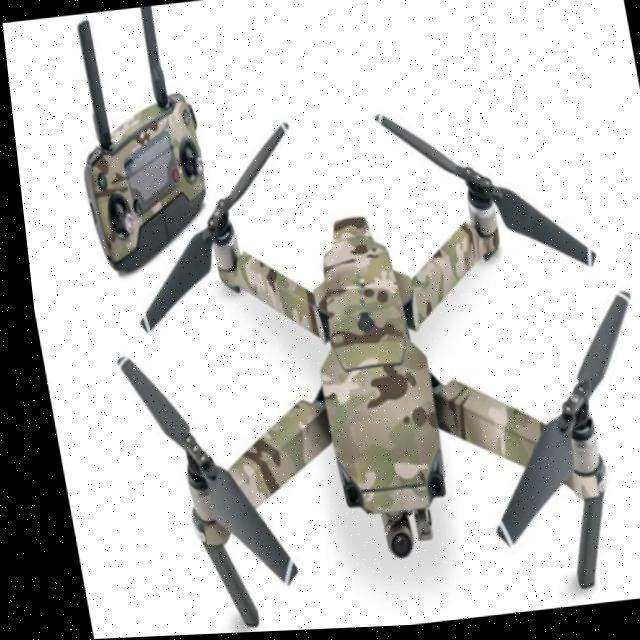drones: (94, 111, 640, 637)
